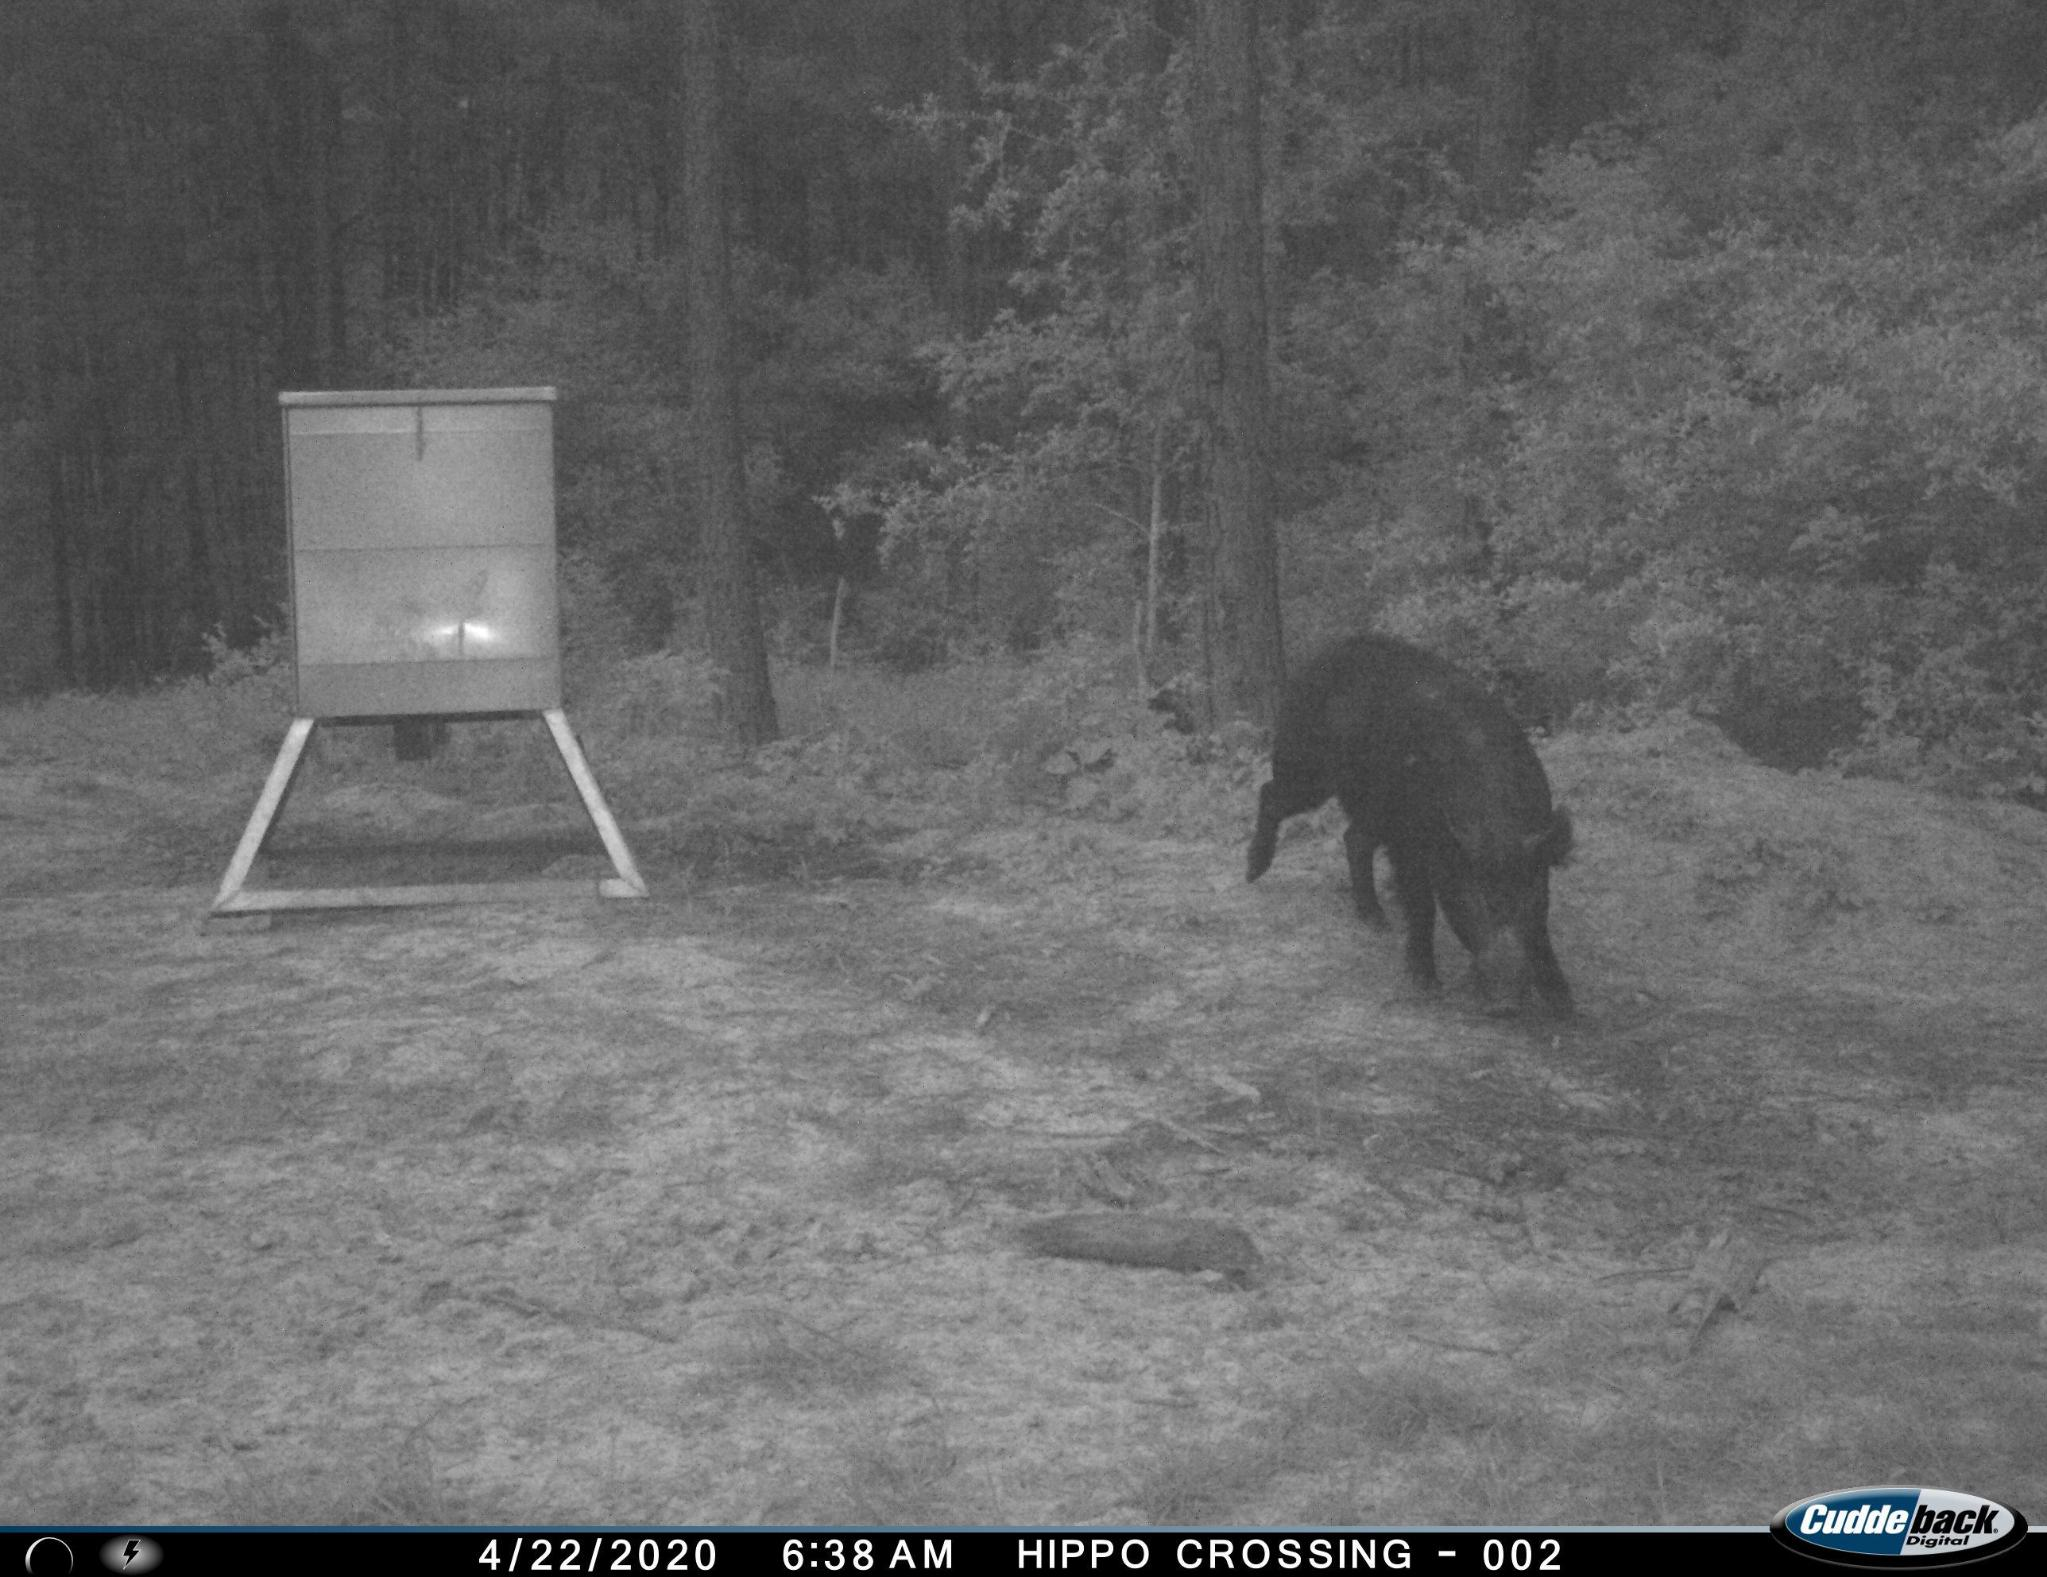Hog: (1234, 625, 1598, 1042)
